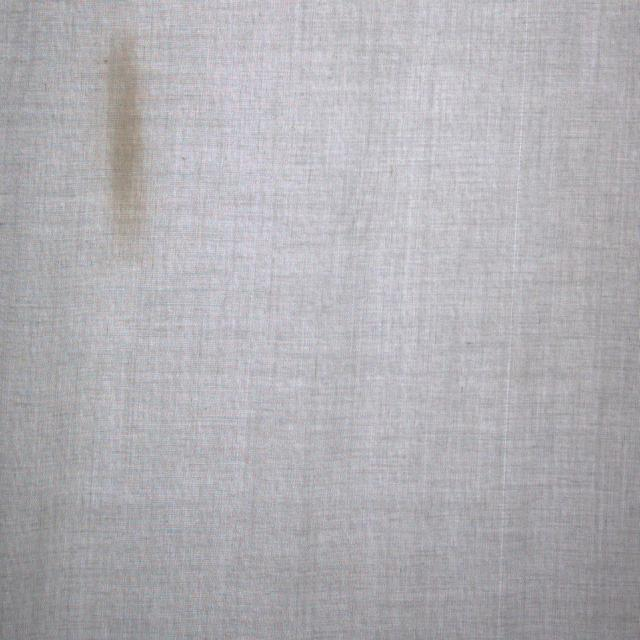dirty: (108, 38, 142, 229)
